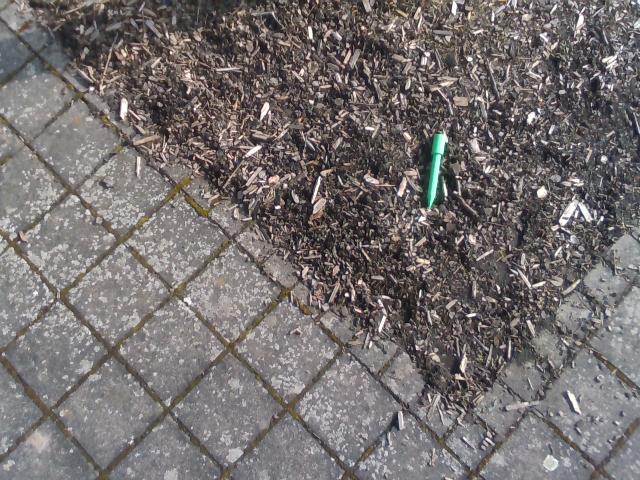Probe: (421, 129, 451, 212)
